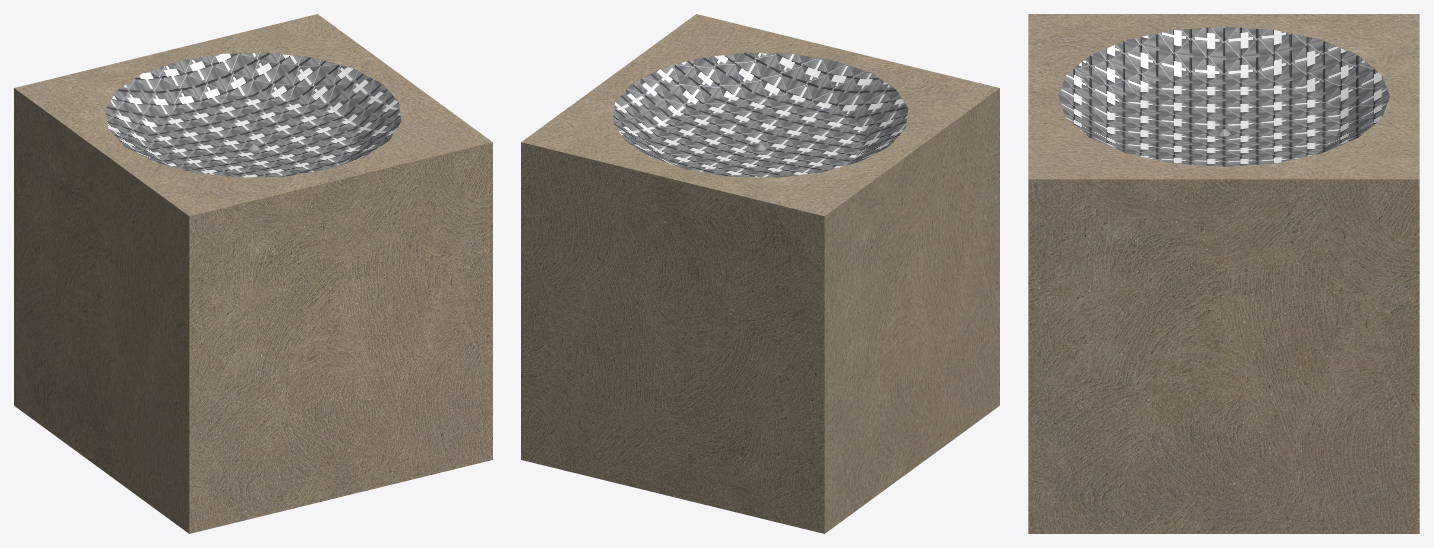
File: Blower.fbx
3 views of the same model, side by side, from view 1: azimuth 30°, elevation 25°; view 2: azimuth 150°, elevation 25°; view 3: azimuth 270°, elevation 25° (orthographic). The views are drawn at different scales.
Visible parts, largest first — view 1: Shell, Raster; view 2: Shell, Raster; view 3: Shell, Raster.
Boxes of the visible parts, x1=… form: Shell: x1=14, y1=14, x2=492, y2=533; Raster: x1=105, y1=52, x2=401, y2=177; Shell: x1=521, y1=14, x2=999, y2=533; Raster: x1=612, y1=52, x2=908, y2=177; Shell: x1=1028, y1=14, x2=1419, y2=533; Raster: x1=1058, y1=26, x2=1389, y2=166.
Size of the model in its own units: 100 by 100 by 100.
